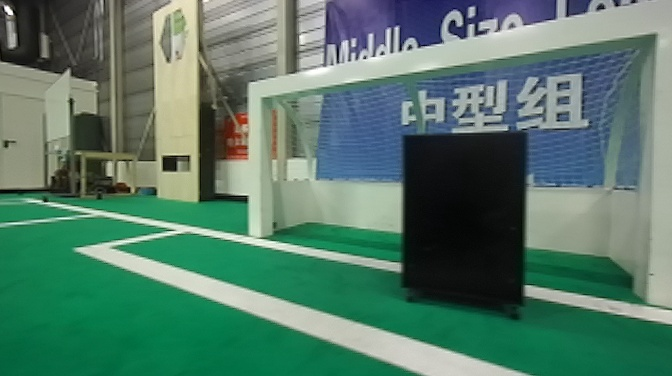goalpost: (642, 4, 672, 304), (247, 76, 272, 249)
